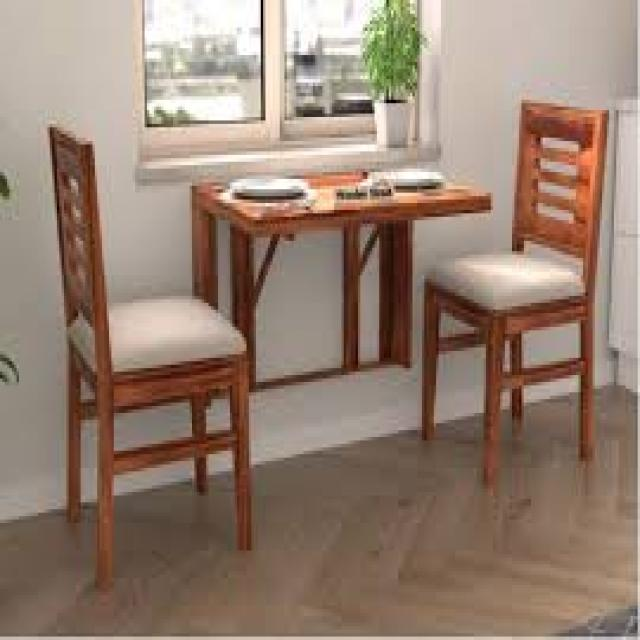obstacle: (29, 83, 277, 567), (432, 93, 618, 481)
